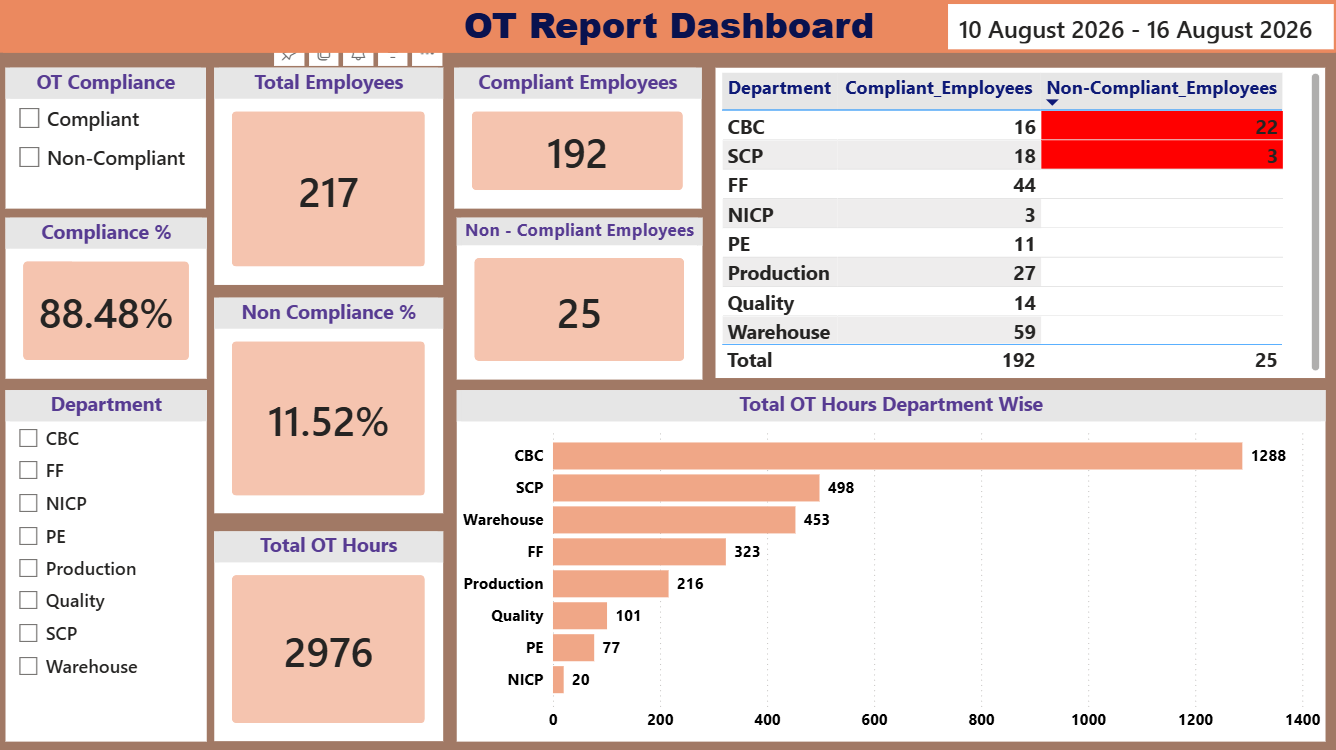

The dashboard page shown, as its layout file describes it:
{"tool":"powerbi","page":{"name":"Main Dashboard","canvas":[1280,720],"ordinal":0},"visuals":[{"type":"cardVisual","title":"Total Employees","fields":{"Data":["working Sheet.Total_Employees"]},"box":[205.8,65.9,218.2,207.2],"z":0},{"type":"slicer","title":"Department","fields":{"Values":["Sheet1.Department"]},"box":[6.9,373.2,192.1,334.8],"z":1000},{"type":"cardVisual","title":"Total OT Hours","fields":{"Data":["Dax Formula.Total_OT"]},"box":[205.8,507.7,218.2,200.3],"z":2000},{"type":"clusteredBarChart","title":"Total OT Hours Department Wise","fields":{"Category":["Sheet1.Department"],"Y":["Sum(Sheet1.Total OT Hours)"]},"box":[437.7,373.2,828.8,334.8],"z":3000},{"type":"cardVisual","title":"Compliant Employees","fields":{"Data":["Dax Formula.Compliant_Employees"]},"box":[435.7,65.7,235.7,134.3],"z":4000},{"type":"cardVisual","title":"Non - Compliant Employees","fields":{"Data":["Dax Formula.Non-Compliant_Employees"]},"box":[437.1,208.6,234.3,154.3],"z":5000},{"type":"cardVisual","title":"Compliance %","fields":{"Data":["Dax Formula.Compliance_%"]},"box":[6.9,208.6,192.1,153.7],"z":6000},{"type":"tableEx","fields":{"Values":["Sheet1.Department","Dax Formula.Compliant_Employees","Dax Formula.Non-Compliant_Employees"]},"box":[684.7,65.9,581.8,296.4],"z":7000},{"type":"slicer","title":"OT Compliance","fields":{"Values":["Sheet1.OT_Compliance"]},"box":[7.1,65.7,191.4,134.3],"z":8000},{"type":"textbox","title":"OT Report Dashboard","box":[0,0,1280,51.4],"z":9000},{"type":"cardVisual","title":"Non Compliance %","fields":{"Data":["Dax Formula.Non-Compliance_%"]},"box":[205.8,285.4,218.2,205.8],"z":10000},{"type":"cardVisual","fields":{"Data":["Dax Formula.Current Week"]},"box":[901.3,0,378.7,53.5],"z":11000}]}

Visuals, with their boxes in screenshot pixels (x1, y1, x2, y2), scaled from the page's 1280x720 canvas onto the 1336x750 screenshot:
"Total Employees" cardVisual: left=215, top=69, right=443, bottom=284
"Department" slicer: left=7, top=389, right=208, bottom=738
"Total OT Hours" cardVisual: left=215, top=529, right=443, bottom=738
"Total OT Hours Department Wise" clusteredBarChart: left=457, top=389, right=1322, bottom=738
"Compliant Employees" cardVisual: left=455, top=68, right=701, bottom=208
"Non - Compliant Employees" cardVisual: left=456, top=217, right=701, bottom=378
"Compliance %" cardVisual: left=7, top=217, right=208, bottom=377
tableEx - Sheet1.Department x Dax Formula.Compliant_Employees: left=715, top=69, right=1322, bottom=377
"OT Compliance" slicer: left=7, top=68, right=207, bottom=208
"OT Report Dashboard" textbox: left=0, top=0, right=1335, bottom=54
"Non Compliance %" cardVisual: left=215, top=297, right=443, bottom=512
cardVisual - Dax Formula.Current Week: left=941, top=0, right=1335, bottom=56
